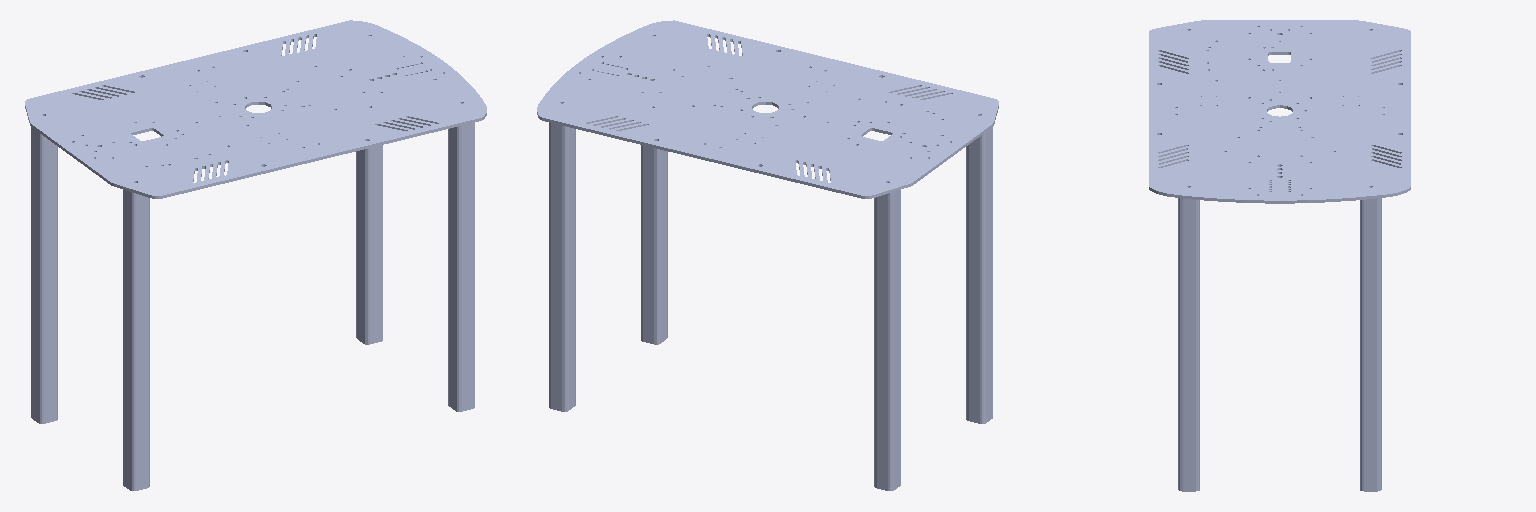
The robot description file, URDF, robot "bracket_urdf":
<?xml version="1.0" encoding="utf-8"?>
<!-- This URDF was automatically created by SolidWorks to URDF Exporter! Originally created by [author] ([email redacted]) 
     Commit Version: 1.6.0-4-g7f85cfe  Build Version: 1.6.7995.38578
     For more information, please see http://wiki.ros.org/sw_urdf_exporter -->
<robot
  name="bracket_urdf">
  <link
    name="bracket_link">
    <inertial>
      <origin
        xyz="-0.0042701 1.2621E-05 -0.095635"
        rpy="0 0 0" />
      <mass
        value="0.71039" />
      <inertia
        ixx="0.0045868"
        ixy="9.8566E-07"
        ixz="8.5969E-20"
        iyy="0.0065441"
        iyz="-8.9654E-15"
        izz="0.0044039" />
    </inertial>
    <visual>
      <origin
        xyz="0 0 0"
        rpy="0 0 0" />
      <geometry>
        <mesh
          filename="package://mycar_description/mesh/diff_4w/bracket_link.STL" />
      </geometry>
      <material
        name="">
        <color
          rgba="0.79216 0.81961 0.93333 1" />
      </material>
    </visual>
    <collision>
      <origin
        xyz="0 0 0"
        rpy="0 0 0" />
      <geometry>
        <mesh
          filename="package://wanderbot4W_description/mesh/diff_4w/bracket_link.STL" />
      </geometry>
    </collision>
  </link>
</robot>

--- Render facts (derived) ---
Views: 3 orthographic renders of the robot side by side, from view 1: azimuth 30°, elevation 25°; view 2: azimuth 150°, elevation 25°; view 3: azimuth 270°, elevation 25°.
Robot: bracket_urdf — 1 links, 0 joints (none); root link bracket_link; default pose: all joints at 0.
Links seen in each view (by area): view 1: bracket_link; view 2: bracket_link; view 3: bracket_link.
Link boxes in pixels (x1=…): bracket_link: x1=25, y1=20, x2=486, y2=490; bracket_link: x1=537, y1=20, x2=998, y2=490; bracket_link: x1=1149, y1=20, x2=1410, y2=491.
Size in the robot's own frame: 0.39 by 0.24 by 0.303 metres.
1 mesh visuals loaded from 1 distinct referenced files (1 binary STL).